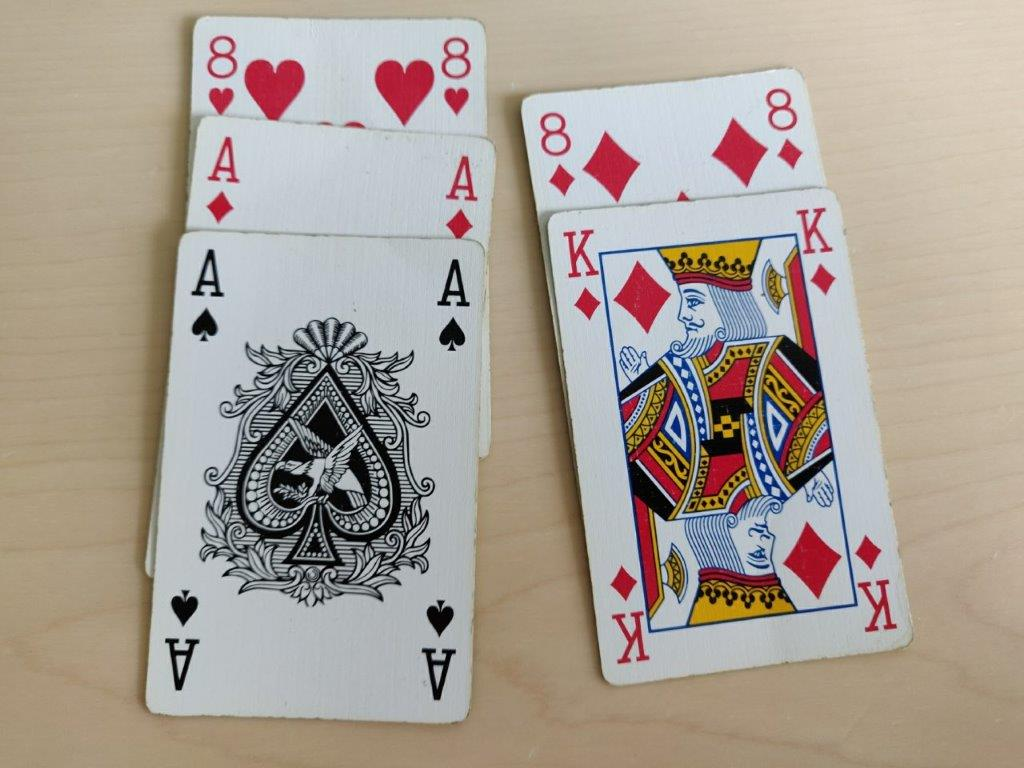8D: (760, 80, 807, 172), (536, 104, 580, 200)
8H: (435, 29, 476, 127), (202, 30, 241, 119)
AD: (201, 132, 244, 226), (442, 151, 481, 241)
AS: (187, 245, 227, 344), (434, 255, 470, 357)
KD: (788, 201, 841, 299), (558, 223, 607, 326)
